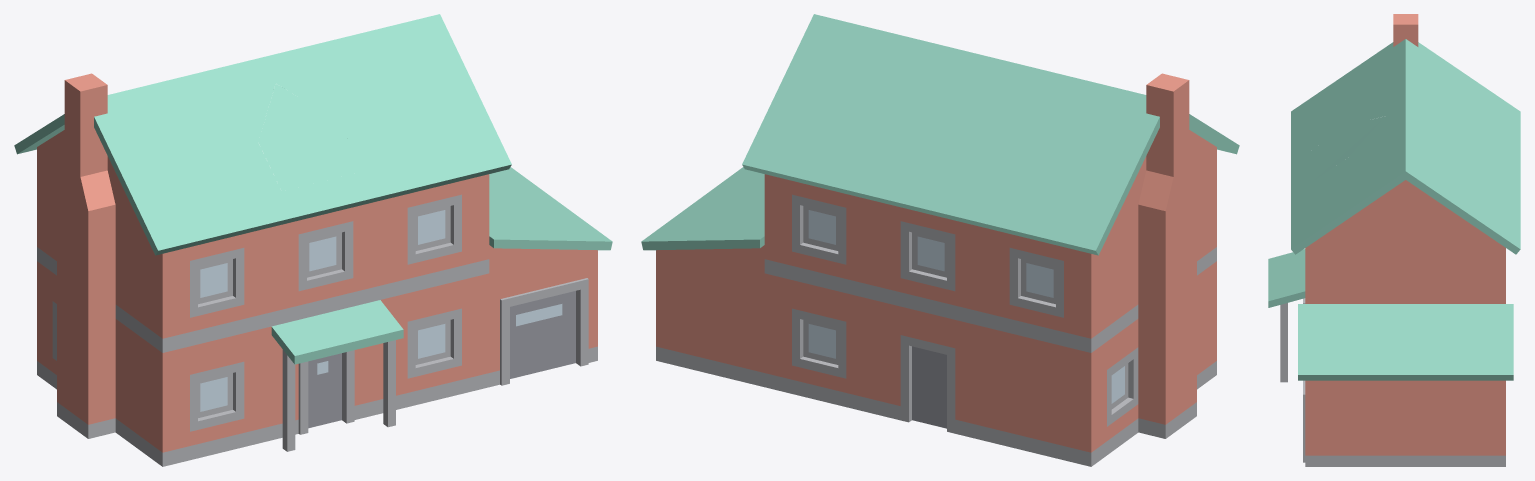
The model's file is house.glb.
3 views of the same model, side by side, from view 1: azimuth 30°, elevation 25°; view 2: azimuth 150°, elevation 25°; view 3: azimuth 270°, elevation 25° (orthographic). The views are drawn at different scales.
Visible parts, largest first — view 1: house; view 2: house; view 3: house.
Part boxes in pixels (<box>): house: <box>14,14,612,466</box>; house: <box>641,14,1239,466</box>; house: <box>1268,14,1520,466</box>.
Bounding box in the file's own units: 1.74 × 1.2 × 1.01.
